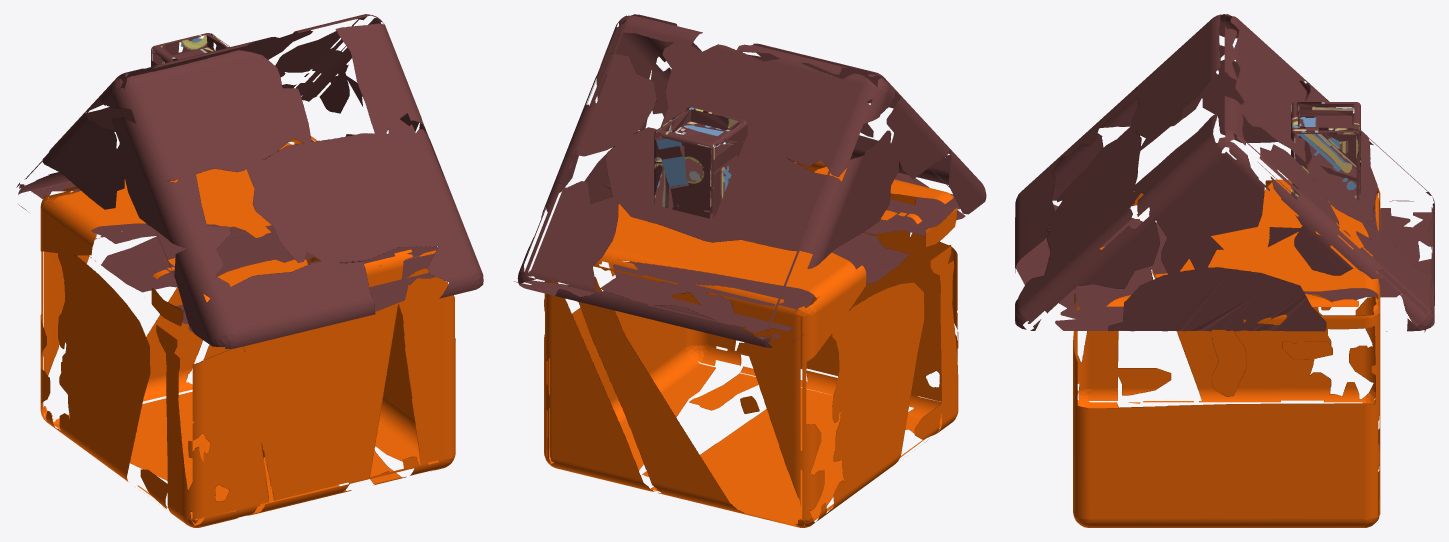
File: Home.obj
The picture shows the model from 3 angles, left to right: view 1: azimuth 30°, elevation 25°; view 2: azimuth 150°, elevation 25°; view 3: azimuth 270°, elevation 25°; orthographic projection.
Parts seen in each view (by area): view 1: model_0, model_2, model_1; view 2: model_2, model_0, model_1; view 3: model_0, model_2, model_1.
Part boxes in pixels (left/top/right/bottom): model_0: left=16, top=14, right=483, bottom=348; model_2: left=40, top=136, right=455, bottom=527; model_1: left=151, top=33, right=229, bottom=66; model_2: left=544, top=160, right=958, bottom=527; model_0: left=514, top=14, right=986, bottom=347; model_1: left=654, top=107, right=747, bottom=218; model_0: left=1015, top=14, right=1434, bottom=332; model_2: left=1073, top=179, right=1380, bottom=527; model_1: left=1291, top=102, right=1360, bottom=204.
Bounding box in the file's own units: 217 × 304 × 292.
